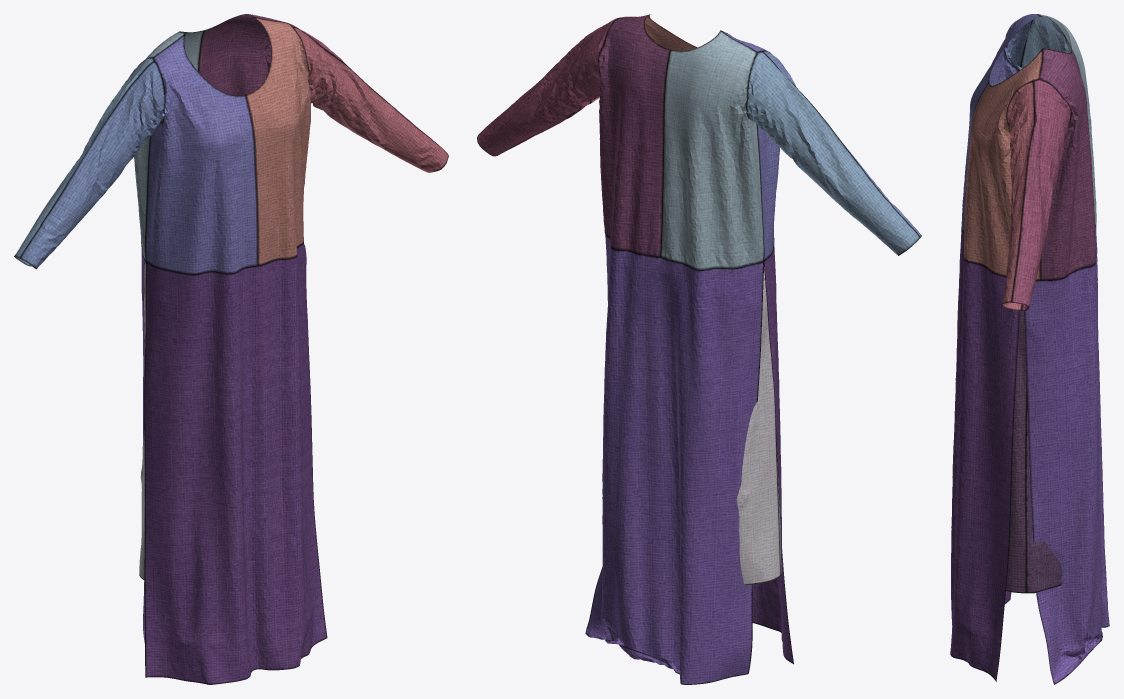
Rendered from ao_dai_sim.obj.
The picture shows the model from 3 angles, left to right: view 1: azimuth 30°, elevation 25°; view 2: azimuth 150°, elevation 25°; view 3: azimuth 270°, elevation 25°; orthographic projection. The views are drawn at different scales.
Bounding box in the file's own units: 113 × 156 × 36.8.
Materials: 1 (1 with a texture image).
